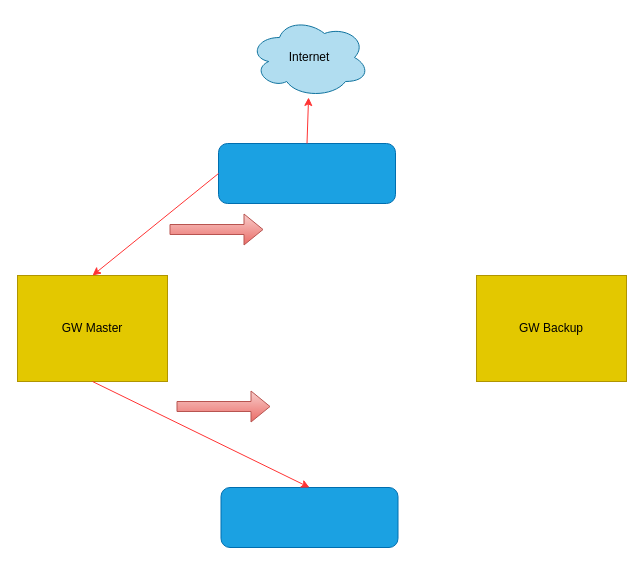
This 644x565 diagram has some shape labels left out. The centre of each missing label's shape, as x and y in pixels:
"Switch LAN" goes at point (309, 517).
"Switch WAN" goes at point (307, 173).
